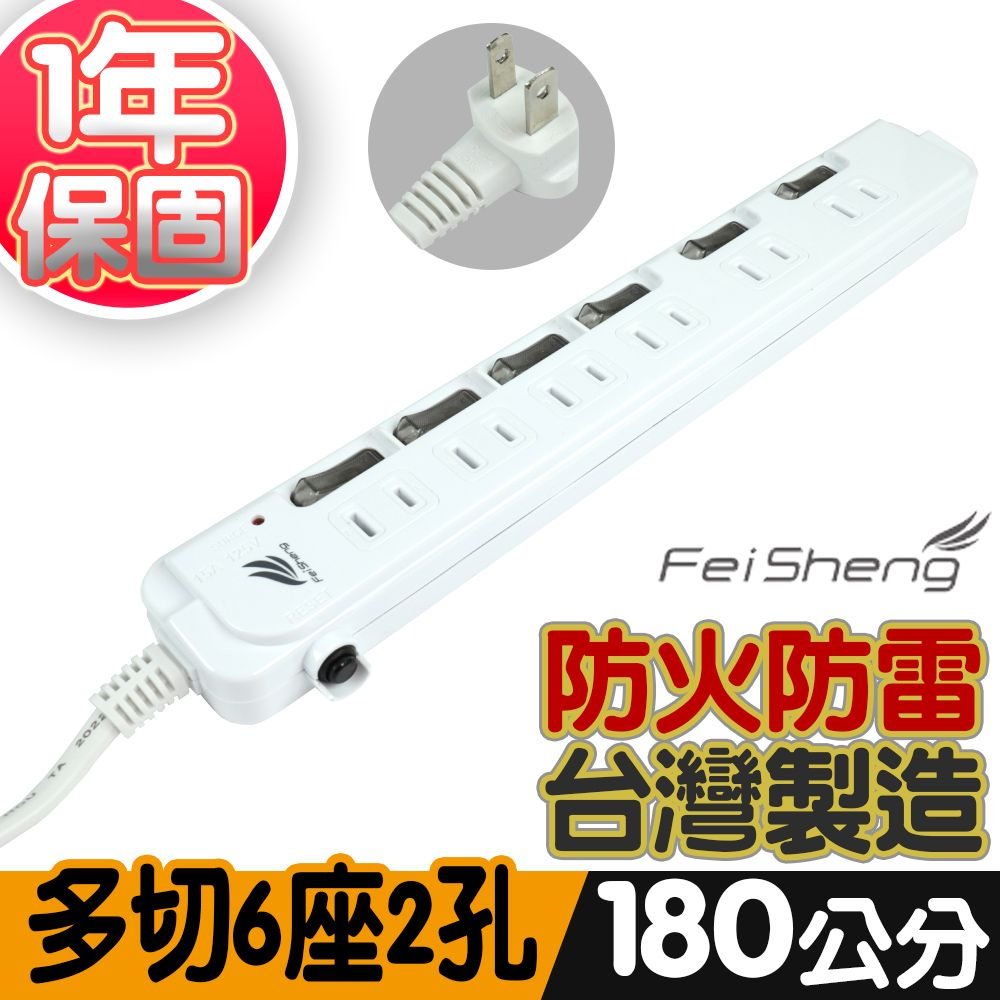socket: (90, 118, 978, 730)
